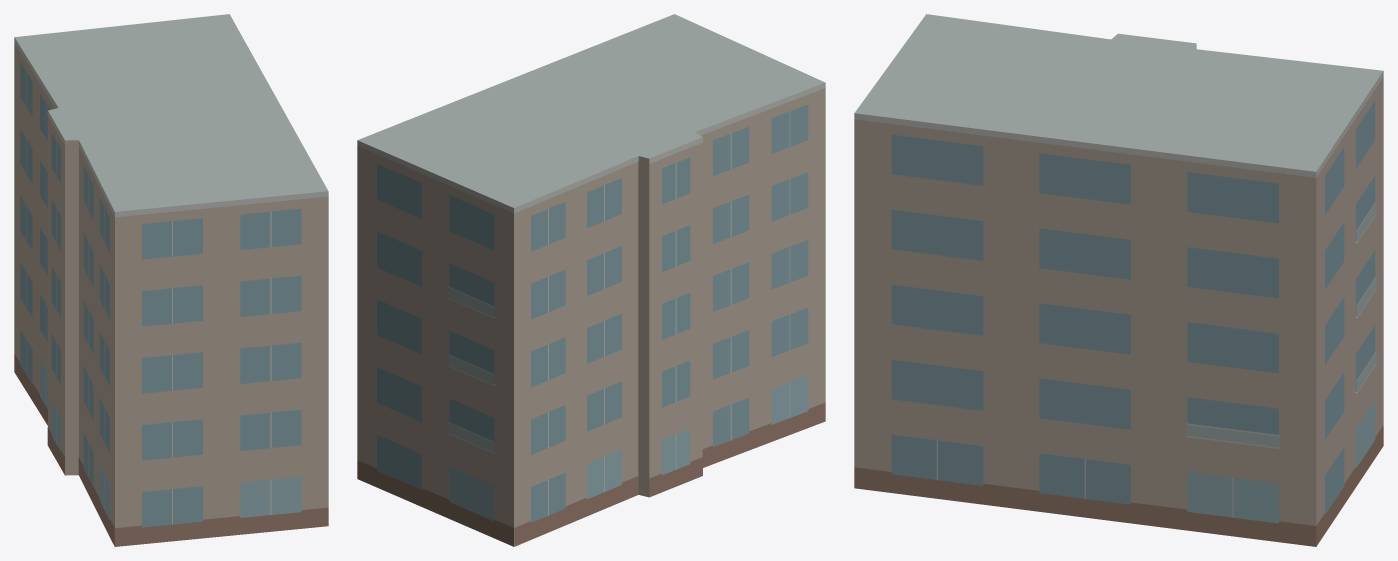
File: survey-upis-32868541.glb
The picture shows the model from 3 angles, left to right: view 1: azimuth 30°, elevation 25°; view 2: azimuth 150°, elevation 25°; view 3: azimuth 270°, elevation 25°; orthographic projection. The views are drawn at different scales.
Parts seen in each view (by area): view 1: survey-upis-32868541.tmp; view 2: survey-upis-32868541.tmp; view 3: survey-upis-32868541.tmp.
Part boxes in pixels (x1,y1,x2,y2): survey-upis-32868541.tmp: [14, 14, 328, 546]; survey-upis-32868541.tmp: [357, 14, 825, 546]; survey-upis-32868541.tmp: [854, 14, 1383, 546].
Size of the model in its own units: 13.78 by 15.25 by 19.51.
